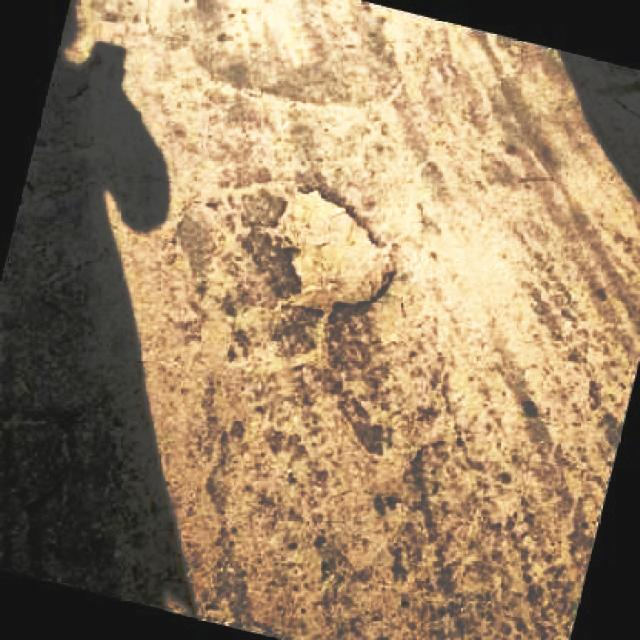pothole: (266, 180, 396, 315)
